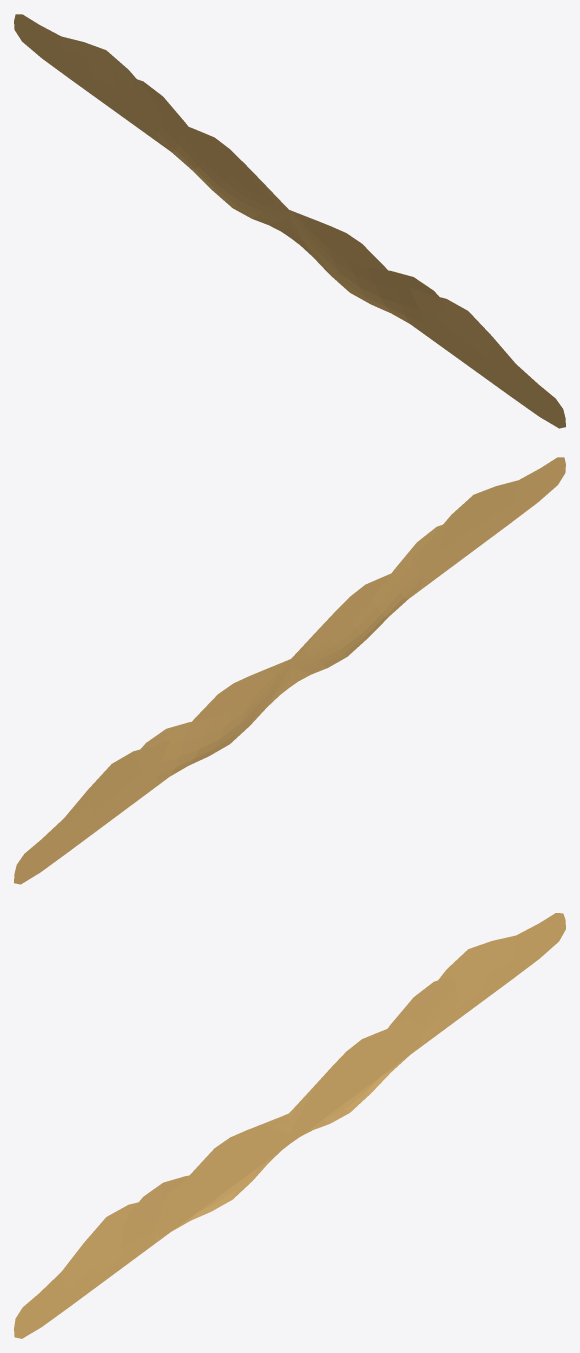
File: decierto 0.fbx
The picture shows the model from 3 angles, top to bottom: view 1: azimuth 30°, elevation 25°; view 2: azimuth 150°, elevation 25°; view 3: azimuth 330°, elevation 25°; orthographic projection. The views are drawn at different scales.
Parts seen in each view (by area): view 1: decierto 0; view 2: decierto 0; view 3: decierto 0.
Boxes of the visible parts, x1,y1,x2,y2 form: decierto 0: (14,14,565,428); decierto 0: (14,457,565,884); decierto 0: (14,913,565,1338).
Bounding box in the file's own units: 21.46 × 191 × 2648.
